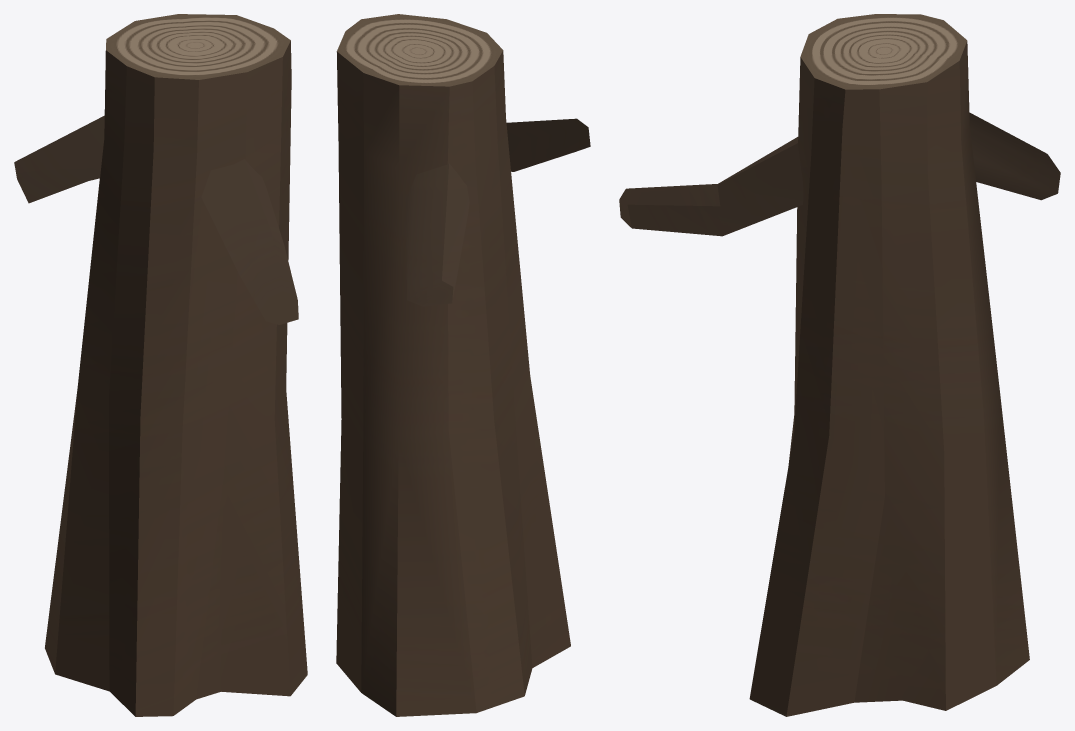
Rendered from PT_Pine_Tree_03_stump.fbx.
The picture shows the model from 3 angles, left to right: view 1: azimuth 30°, elevation 25°; view 2: azimuth 150°, elevation 25°; view 3: azimuth 270°, elevation 25°; orthographic projection. The views are drawn at different scales.
Parts seen in each view (by area): view 1: PT_Pine_Tree_03_stump; view 2: PT_Pine_Tree_03_stump; view 3: PT_Pine_Tree_03_stump.
Boxes of the visible parts, x1,y1,x2,y2 form: PT_Pine_Tree_03_stump: (14,14,307,716); PT_Pine_Tree_03_stump: (336,14,590,716); PT_Pine_Tree_03_stump: (619,14,1060,716).
Size of the model in its own units: 39.55 by 115 by 72.71.
